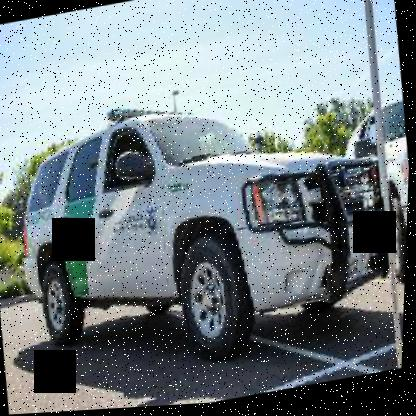emergency: (0, 45, 412, 399)
